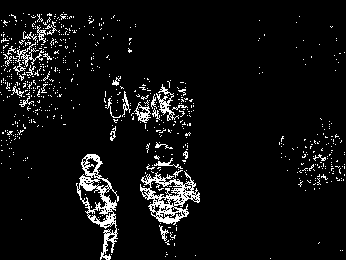person: (140, 144, 200, 259), (74, 153, 121, 259), (130, 73, 155, 154), (174, 79, 197, 165), (151, 76, 176, 145), (106, 74, 129, 144)
